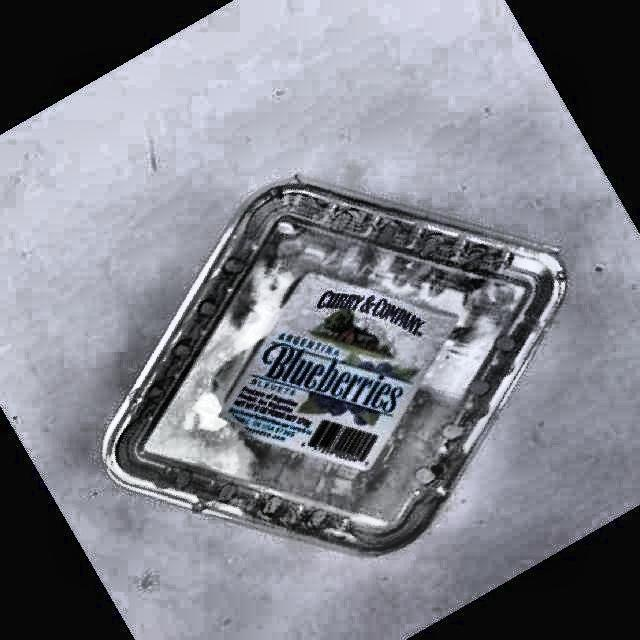plastic: (104, 176, 565, 552)
